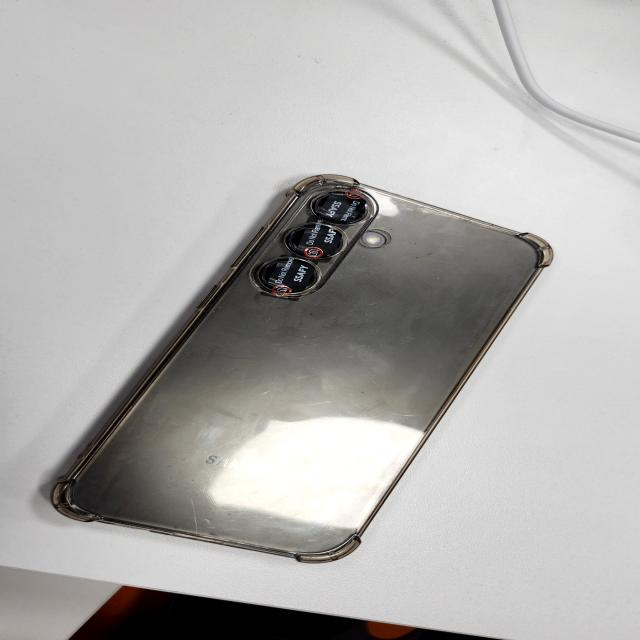phone: (48, 170, 555, 562)
sticker: (265, 256, 316, 303), (299, 218, 342, 262), (325, 186, 365, 228)
